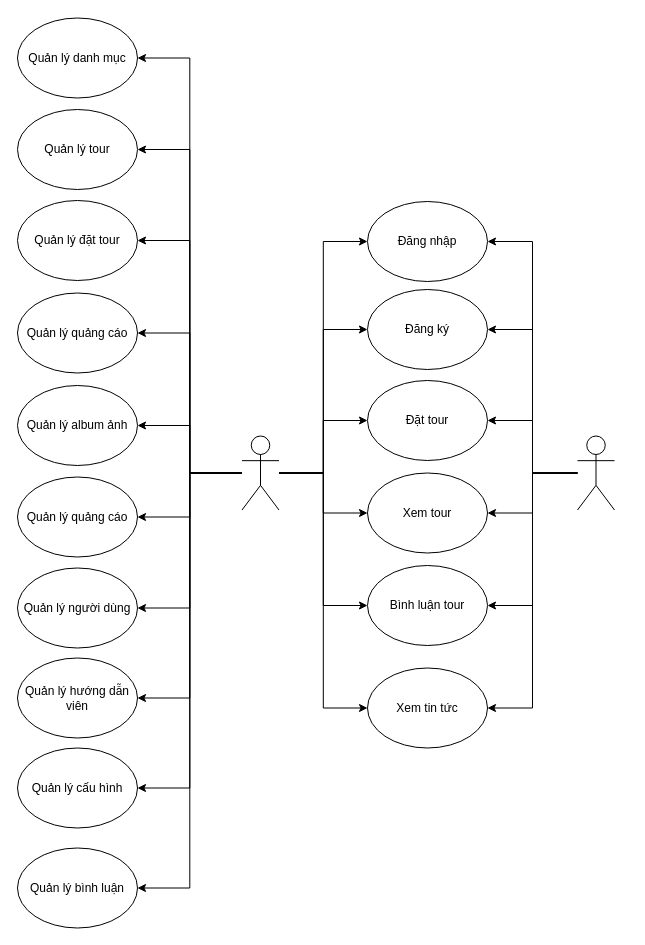
Some shapes in this 645 by 945 pixel diagram are drawn without their labels. The box of each missing label's shape, as (x1, y1, x2, y2) in pixels:
Khách hàng: (576, 435, 614, 510)
Quản trị viên: (241, 435, 279, 510)
